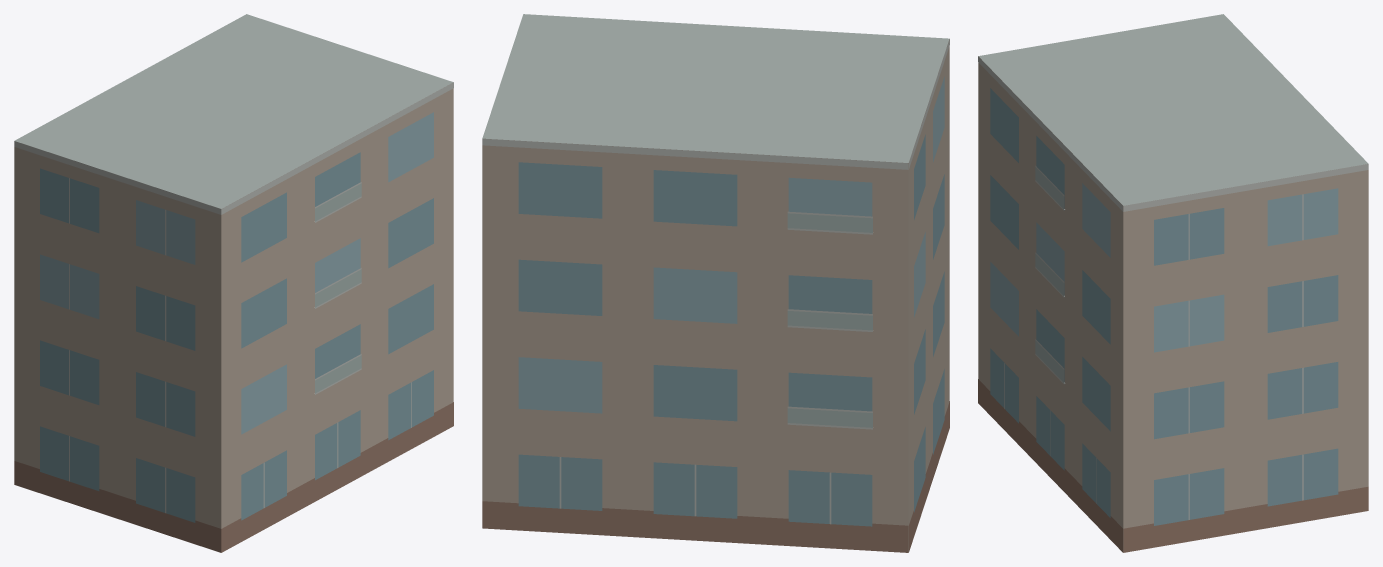
The model's file is survey-upis-32854684.glb.
3 views of the same model, side by side, from view 1: azimuth 30°, elevation 25°; view 2: azimuth 150°, elevation 25°; view 3: azimuth 270°, elevation 25° (orthographic). The views are drawn at different scales.
Parts seen in each view (by area): view 1: survey-upis-32854684.tmp; view 2: survey-upis-32854684.tmp; view 3: survey-upis-32854684.tmp.
Part boxes in pixels (x1,y1,x2,y2): survey-upis-32854684.tmp: [14, 14, 453, 552]; survey-upis-32854684.tmp: [482, 14, 949, 552]; survey-upis-32854684.tmp: [978, 14, 1368, 552].
Size of the model in its own units: 16.63 by 14.02 by 14.31.
